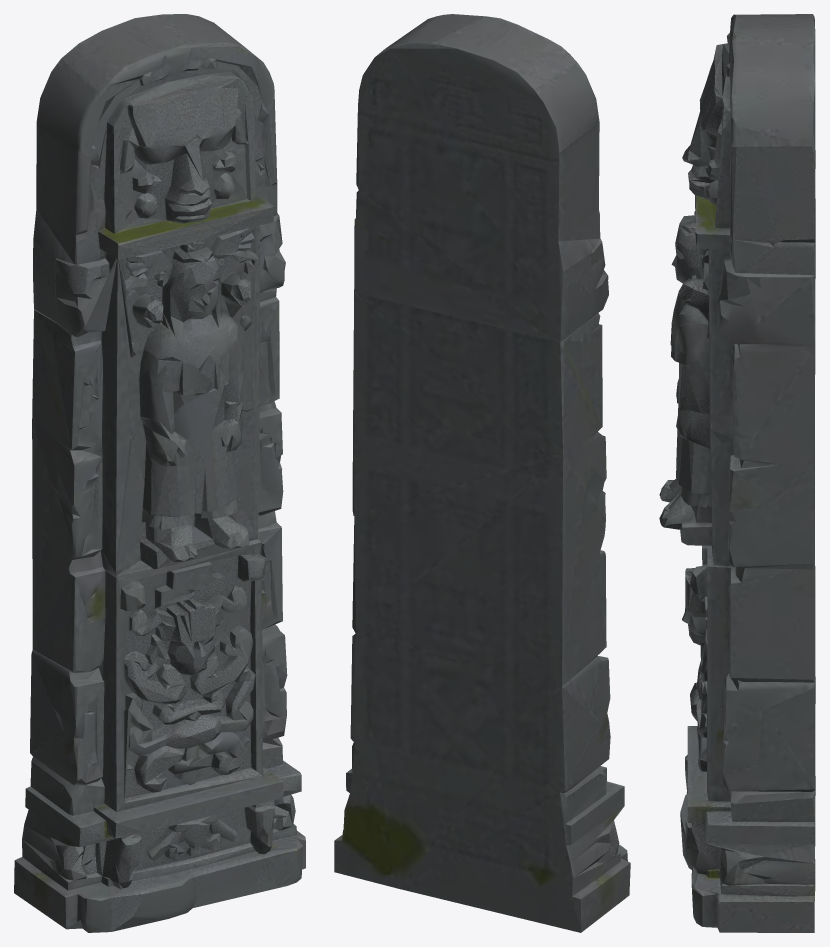
File: scene_stela.glb
3 renders of one model, left to right at view 1: azimuth 30°, elevation 25°; view 2: azimuth 150°, elevation 25°; view 3: azimuth 270°, elevation 25°, orthographic.
Bounding box in the file's own units: 0.5742 × 1.9 × 0.3191.
1 material, 1 textured.
